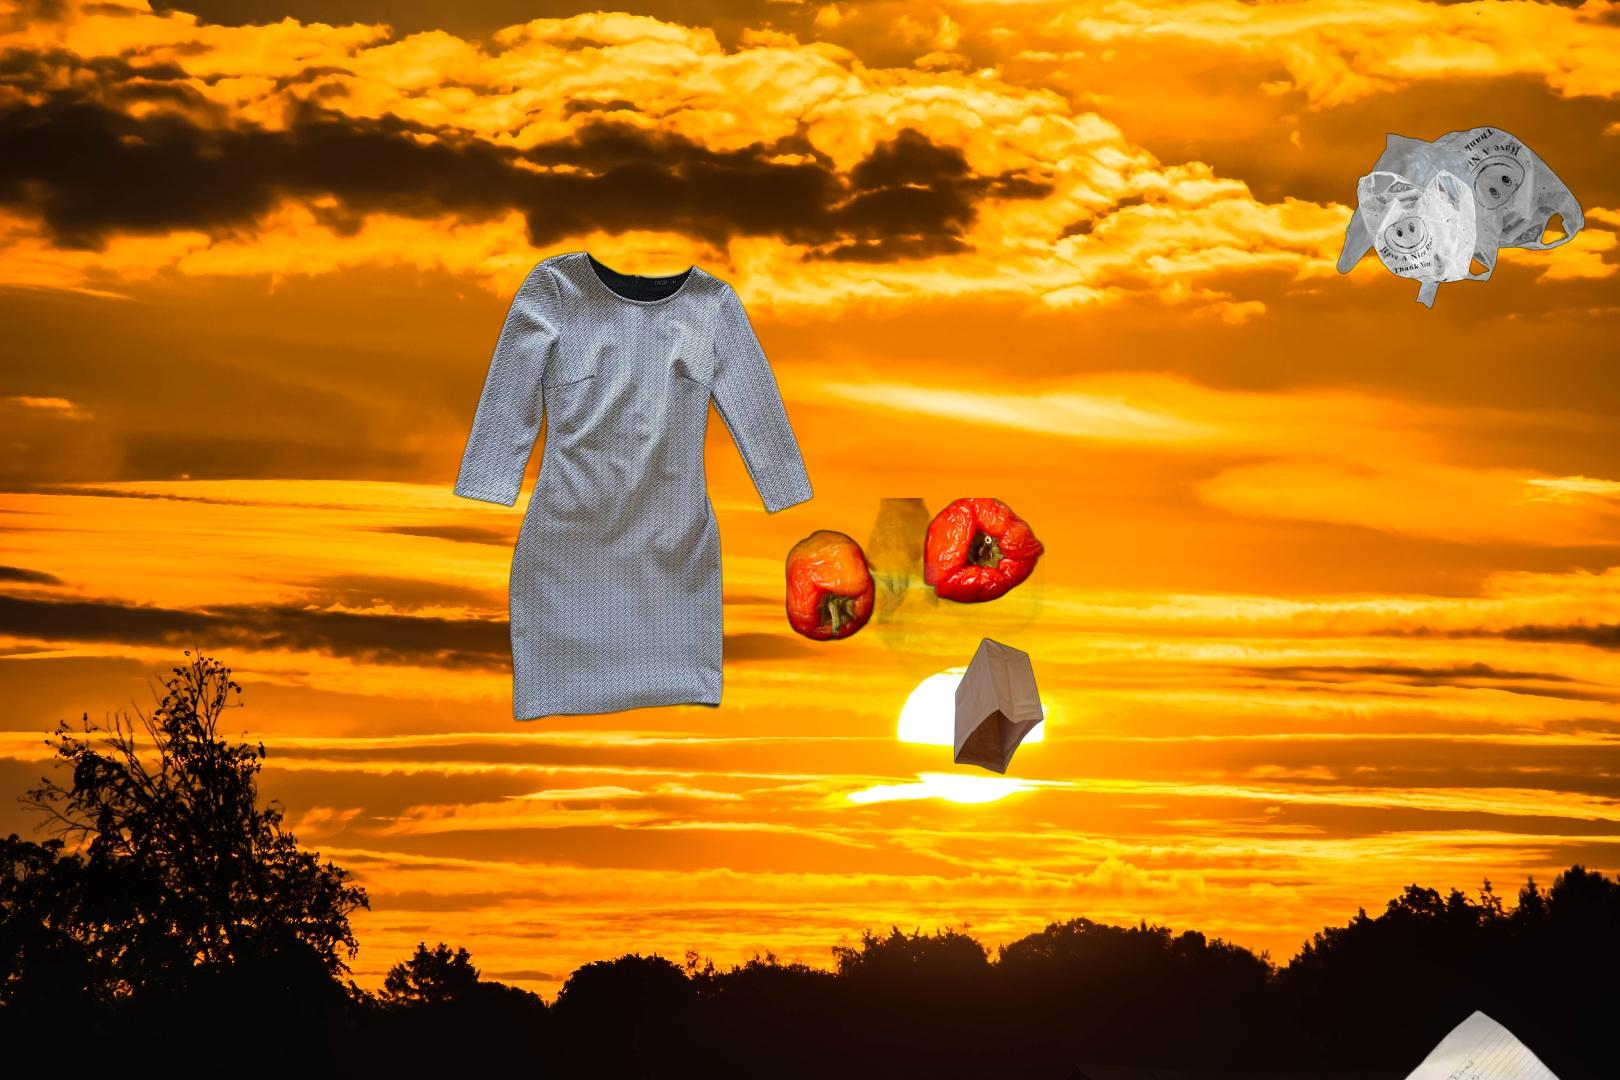biological: (773, 498, 1045, 681)
clothes: (448, 248, 817, 724)
paper: (1357, 1006, 1620, 1080)
paper-bag: (953, 635, 1045, 776)
plastic-bag: (1334, 123, 1587, 312)
